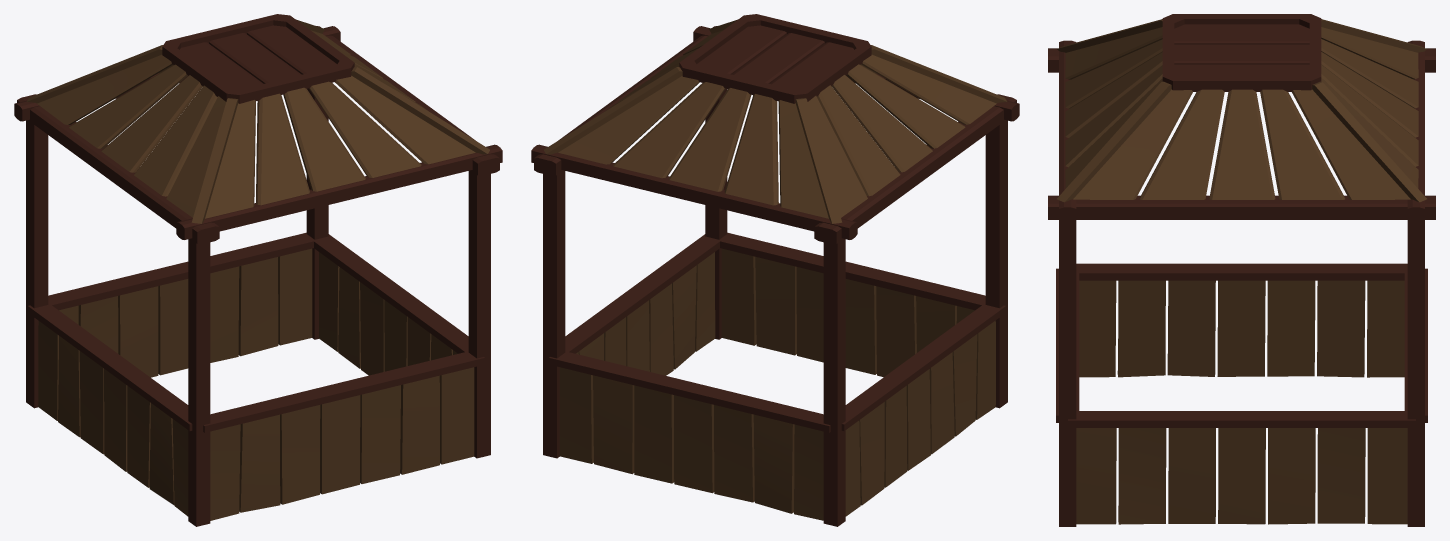
The model's file is roof_building_9.FBX.
3 views of the same model, side by side, from view 1: azimuth 30°, elevation 25°; view 2: azimuth 150°, elevation 25°; view 3: azimuth 270°, elevation 25° (orthographic). The views are drawn at different scales.
Parts seen in each view (by area): view 1: roof_building_9; view 2: roof_building_9; view 3: roof_building_9.
Boxes of the visible parts, x1,y1,x2,y2 form: roof_building_9: (14, 14, 502, 526); roof_building_9: (531, 14, 1019, 526); roof_building_9: (1048, 14, 1435, 526).
Bounding box in the file's own units: 340 × 383 × 334.
